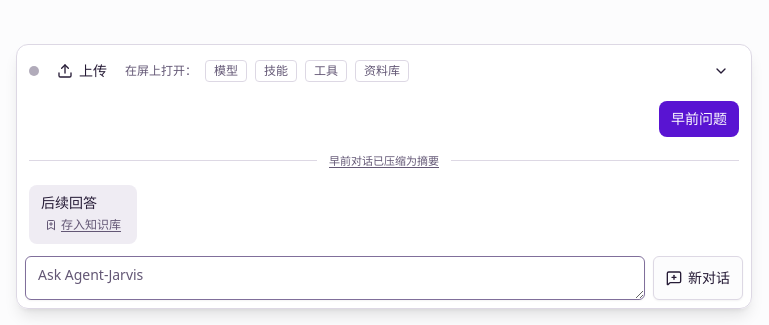
FloatingChat › REQ-F-043: 压缩边界是可展开的轻标记，不是消息气泡
Expected: the text "选了方案 B" is not shown
What coordinates should you click on to do the following:
click the button with aria-label "展开早前对话的摘要"
I would click on:
 (384, 161)
Its box is [325,152,443,169].
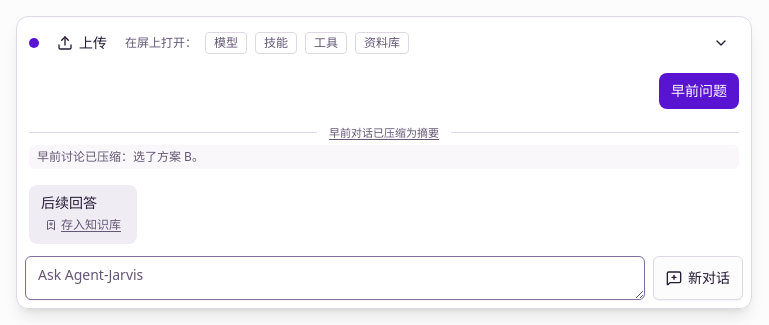
Now the text "早前讨论已压缩：选了方案 B。" is shown, box [29,145,739,169]
Now the button with aria-label "收起早前对话的摘要" is expanded, box [325,124,443,141]
